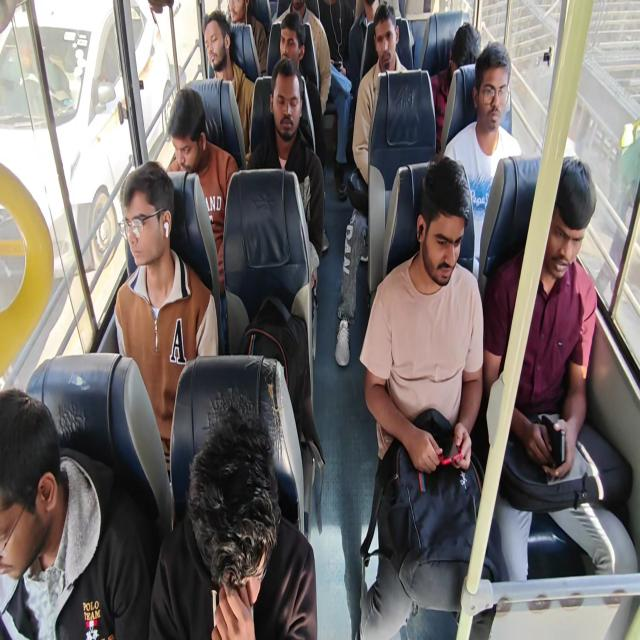person: (358, 155, 507, 638), (482, 155, 638, 589), (148, 407, 318, 639), (0, 386, 151, 639), (114, 160, 218, 481), (335, 2, 409, 366), (247, 57, 326, 358), (443, 41, 522, 272), (166, 86, 239, 294), (306, 0, 354, 200), (202, 10, 255, 155), (277, 12, 325, 165), (430, 22, 480, 150), (348, 0, 380, 104), (227, 0, 268, 76)
